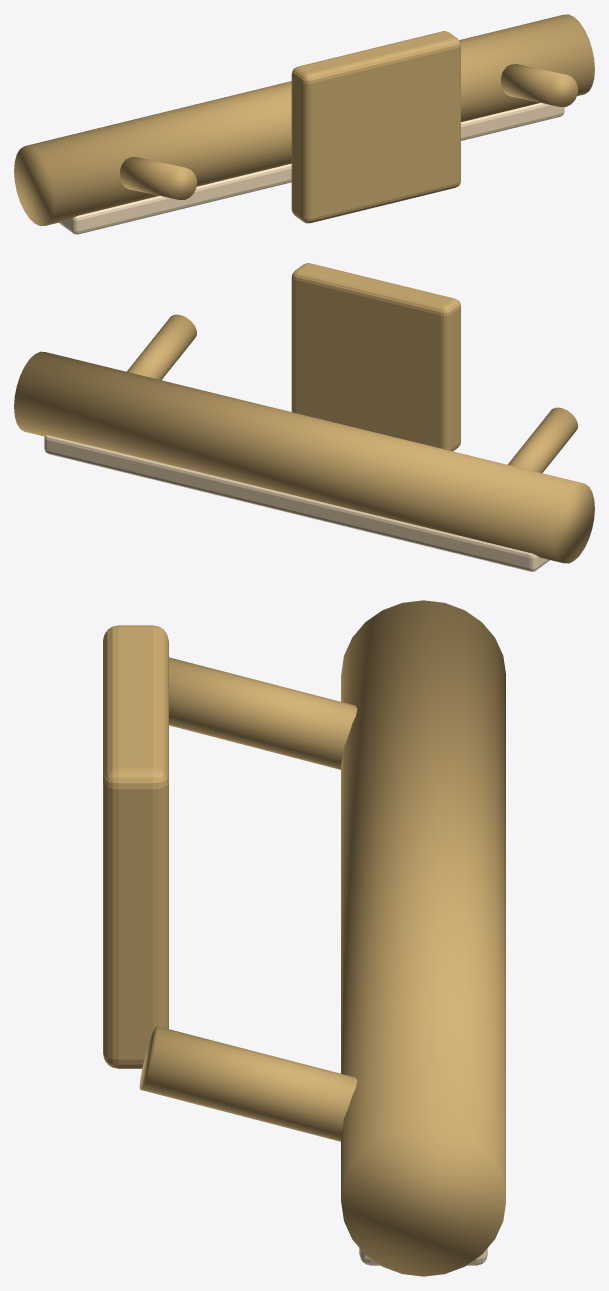
The model's file is piano_picture_light.glb.
3 renders of one model, top to bottom at view 1: azimuth 30°, elevation 25°; view 2: azimuth 150°, elevation 25°; view 3: azimuth 270°, elevation 25°, orthographic. The views are drawn at different scales.
Visible parts, largest first — view 1: living_piano_picture_light_004_shade_bar, living_piano_picture_light_001_wall_backplate, living_piano_picture_light_005_diffuser, living_piano_picture_light_003_support_arm_+0.24, living_piano_picture_light_002_support_arm_-0.24; view 2: living_piano_picture_light_004_shade_bar, living_piano_picture_light_001_wall_backplate, living_piano_picture_light_005_diffuser, living_piano_picture_light_002_support_arm_-0.24, living_piano_picture_light_003_support_arm_+0.24; view 3: living_piano_picture_light_004_shade_bar, living_piano_picture_light_001_wall_backplate, living_piano_picture_light_003_support_arm_+0.24, living_piano_picture_light_002_support_arm_-0.24.
Boxes of the visible parts, left/top/right/bottom form: living_piano_picture_light_004_shade_bar: left=14, top=14, right=594, bottom=226; living_piano_picture_light_001_wall_backplate: left=291, top=31, right=460, bottom=223; living_piano_picture_light_005_diffuser: left=59, top=103, right=564, bottom=234; living_piano_picture_light_003_support_arm_+0.24: left=500, top=64, right=577, bottom=106; living_piano_picture_light_002_support_arm_-0.24: left=119, top=157, right=196, bottom=199; living_piano_picture_light_004_shade_bar: left=14, top=351, right=594, bottom=563; living_piano_picture_light_001_wall_backplate: left=291, top=263, right=460, bottom=451; living_piano_picture_light_005_diffuser: left=44, top=435, right=549, bottom=571; living_piano_picture_light_002_support_arm_-0.24: left=507, top=407, right=577, bottom=473; living_piano_picture_light_003_support_arm_+0.24: left=126, top=314, right=196, bottom=380; living_piano_picture_light_004_shade_bar: left=341, top=600, right=505, bottom=1276; living_piano_picture_light_001_wall_backplate: left=103, top=625, right=168, bottom=1068; living_piano_picture_light_003_support_arm_+0.24: left=139, top=1026, right=357, bottom=1141; living_piano_picture_light_002_support_arm_-0.24: left=169, top=657, right=357, bottom=769.
Bounding box in the file's own units: 0.68 × 0.1995 × 0.22.
